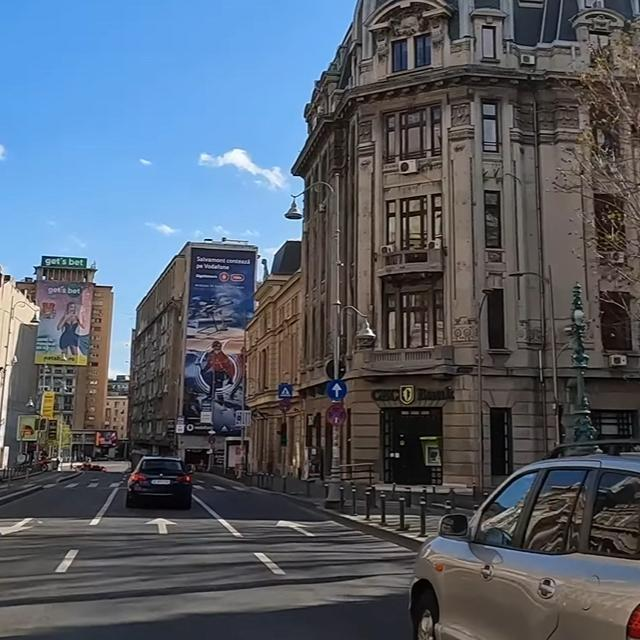forb_waiting: (326, 403, 347, 426)
